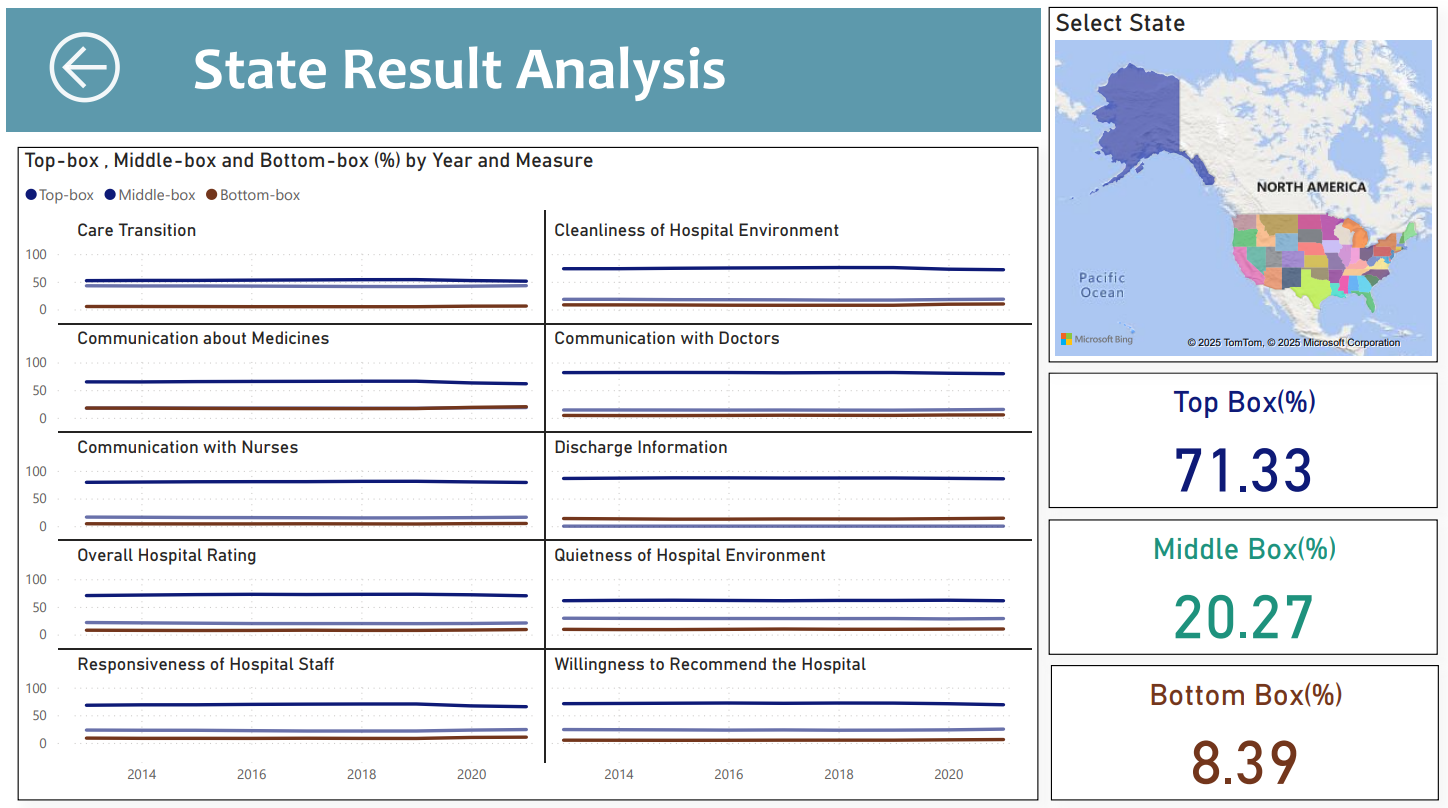

The page's visual inventory and layout, read from the dashboard file:
{"tool":"powerbi","page":{"name":"State Analysis","canvas":[1280,720],"ordinal":3},"visuals":[{"type":"lineChart","title":"Top-box , Middle-box  and Bottom-box (%) by Year and Measure","fields":{"Y":["Avg(state_results.Top-box Percentage)","Avg(state_results.Middle-box Percentage)","Avg(state_results.Bottom-box Percentage)"],"Category":["reports.Start Date.Variation.Date Hierarchy.Year"],"Rows":["measures (2).Measure"]},"box":[12.3,130.4,904.3,579.1],"z":0},{"type":"card","title":"Top Box(%)","fields":{"Values":["Avg(state_results.Top-box Percentage)"]},"box":[926.2,330,344.4,120],"z":1000},{"type":"filledMap","title":"Select State","fields":{"Category":["states.State Name"],"Series":["states.State Name"]},"box":[926.2,6,344.4,315],"z":2000},{"type":"card","title":"Middle Box(%)","fields":{"Values":["Avg(state_results.Middle-box Percentage)"]},"box":[926.2,460,344.4,120],"z":3000},{"type":"card","title":"Bottom Box(%)","fields":{"Values":["Avg(state_results.Bottom-box Percentage)"]},"box":[927.6,589,344.4,120],"z":4000},{"type":"textbox","box":[2,7,917,109],"z":5000},{"type":"actionButton","box":[33,20.8,135.7,77],"z":6000}]}

Visuals, with their boxes in screenshot pixels (x1, y1, x2, y2), scaled from the page's 1280x720 canvas onto the 1448x808 screenshot:
"Top-box , Middle-box  and Bottom-box (%) by Year and Measure" lineChart: [left=14, top=146, right=1037, bottom=796]
"Top Box(%)" card: [left=1048, top=370, right=1437, bottom=505]
"Select State" filledMap: [left=1048, top=7, right=1437, bottom=360]
"Middle Box(%)" card: [left=1048, top=516, right=1437, bottom=651]
"Bottom Box(%)" card: [left=1049, top=661, right=1439, bottom=796]
textbox: [left=2, top=8, right=1040, bottom=130]
actionButton: [left=37, top=23, right=191, bottom=110]
